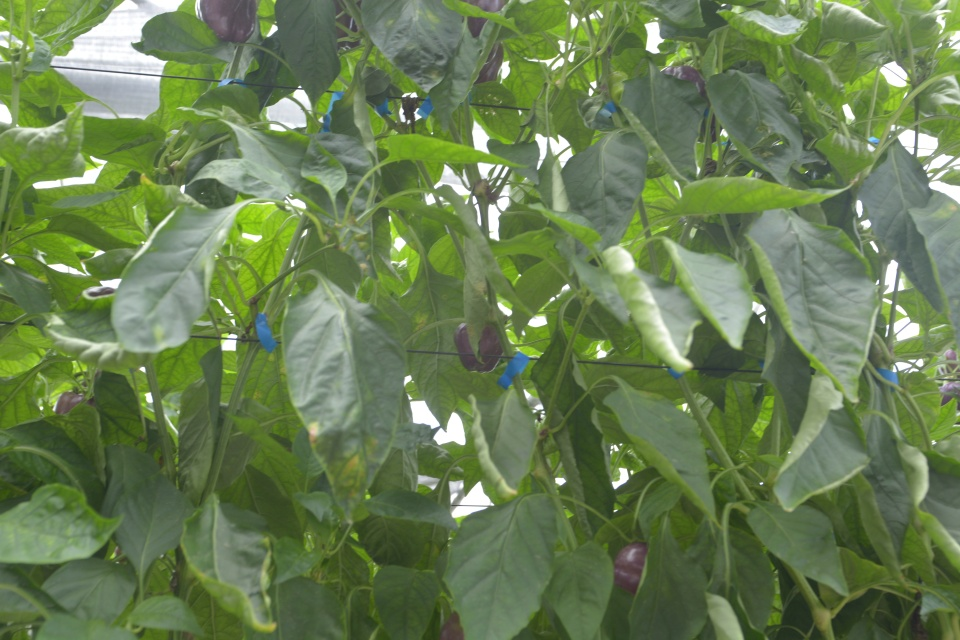fruit: (199, 0, 260, 45), (454, 320, 504, 373), (53, 369, 100, 415), (612, 538, 648, 596), (462, 0, 504, 37), (658, 65, 706, 97), (334, 0, 363, 49), (473, 42, 504, 84)
